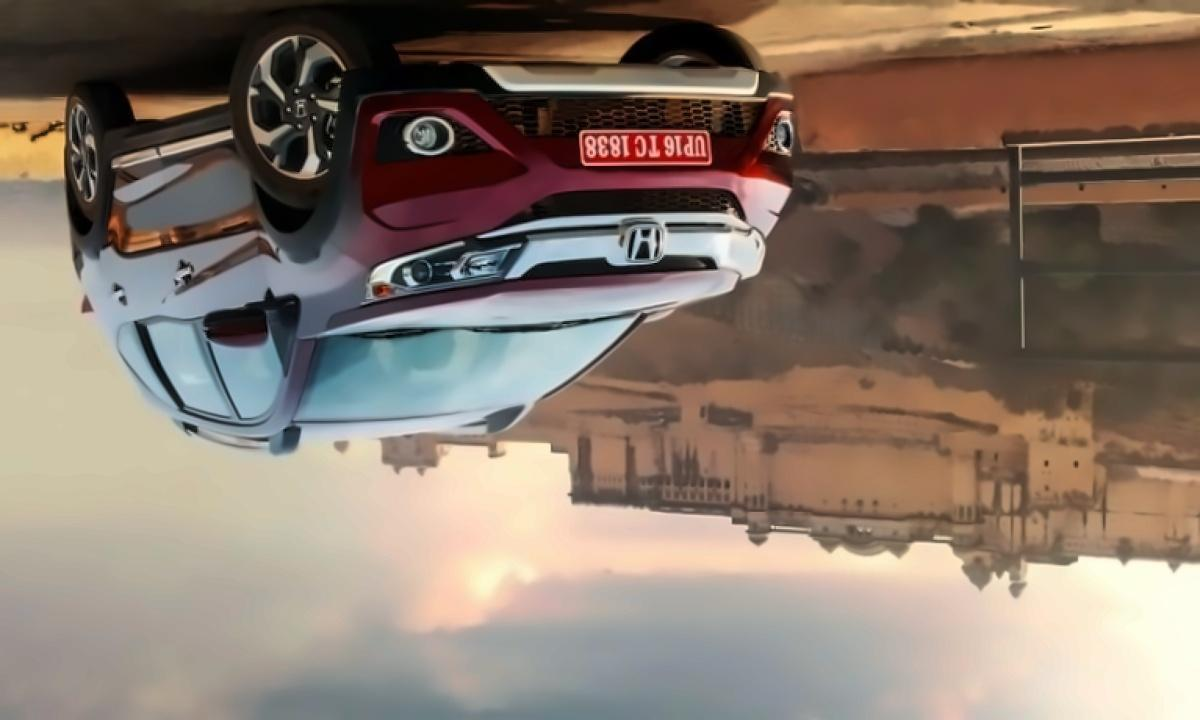Car hood: (320, 264, 743, 340)
Fender - -F-L-: (258, 172, 375, 347)
Front bumper: (311, 57, 802, 269)
Headlight - -L-: (357, 229, 530, 307)
Headlight - -R-: (726, 218, 771, 283)
Passenger-s door - -F-L-: (164, 123, 288, 430)
Passenger-s door - -R-L-: (101, 146, 233, 431)
Side bumper - -L-: (95, 98, 243, 176)
Side mirror - -L-: (198, 301, 279, 357)
Side mirror - -R-: (635, 303, 684, 336)
